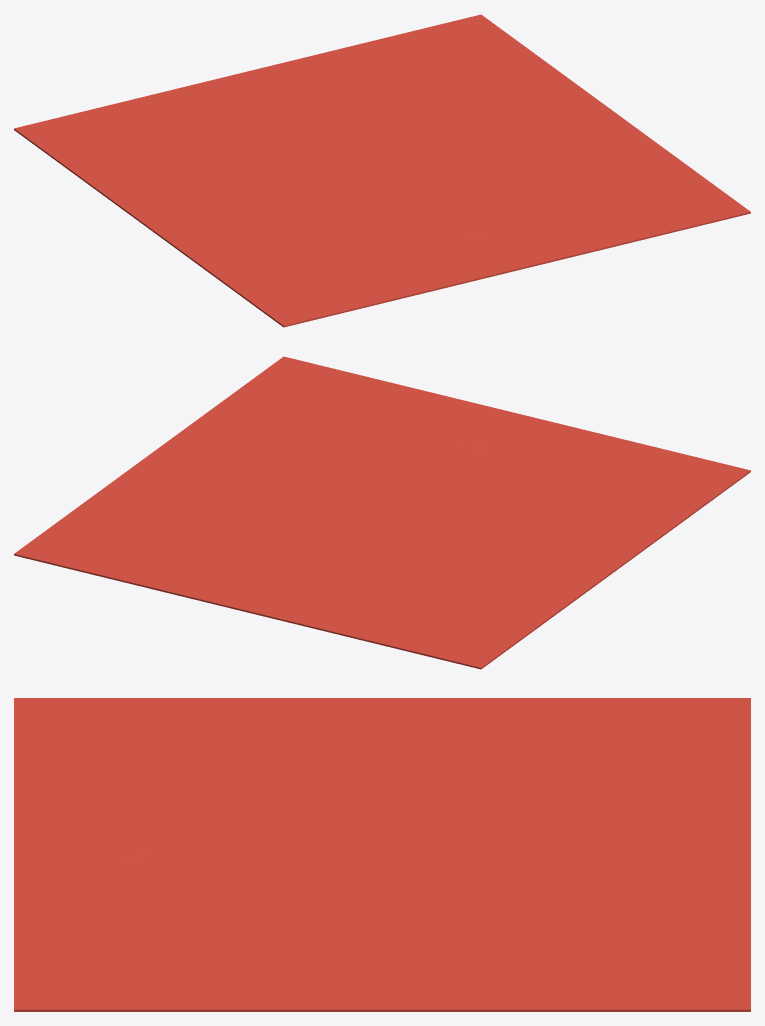
The model's file is SM_Greenscreen_Plane_3x3m.fbx.
3 views of the same model, one above another, from view 1: azimuth 30°, elevation 25°; view 2: azimuth 150°, elevation 25°; view 3: azimuth 270°, elevation 25° (orthographic). The views are drawn at different scales.
Visible parts, largest first — view 1: SM_Greenscreen_Plane_3x3m; view 2: SM_Greenscreen_Plane_3x3m; view 3: SM_Greenscreen_Plane_3x3m.
Boxes of the visible parts, x1=… form: SM_Greenscreen_Plane_3x3m: x1=14, y1=14, x2=750, y2=327; SM_Greenscreen_Plane_3x3m: x1=14, y1=356, x2=750, y2=669; SM_Greenscreen_Plane_3x3m: x1=14, y1=698, x2=750, y2=1011.
Size of the model in its own units: 300 by 300 by 1.09.
